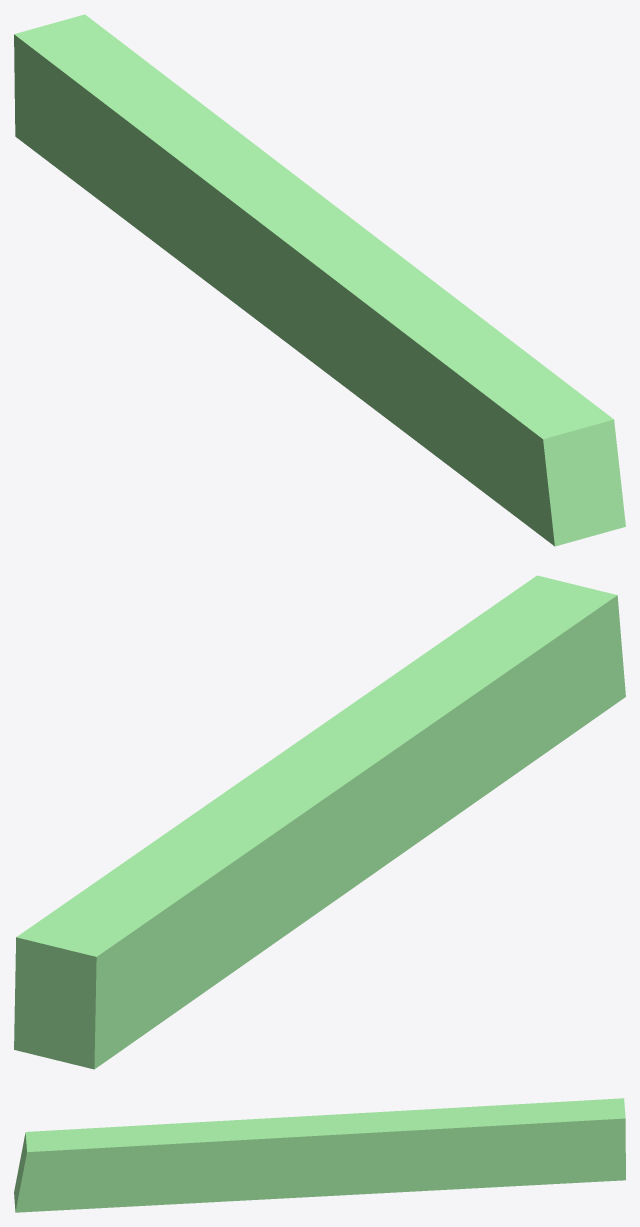
Rendered from dxxx_Lp11_respondable_PSM1_coll_7.dae.
3 renders of one model, top to bottom at view 1: azimuth 30°, elevation 25°; view 2: azimuth 150°, elevation 25°; view 3: azimuth 270°, elevation 25°, orthographic. The views are drawn at different scales.
Visible parts, largest first — view 1: Node_000001D818CB9280; view 2: Node_000001D818CB9280; view 3: Node_000001D818CB9280.
Part boxes in pixels (x1=…): Node_000001D818CB9280: x1=14, y1=14, x2=625, y2=546; Node_000001D818CB9280: x1=14, y1=575, x2=625, y2=1069; Node_000001D818CB9280: x1=14, y1=1098, x2=625, y2=1212.
Bounding box in the file's own units: 0.0181 × 0.025 × 0.16.
